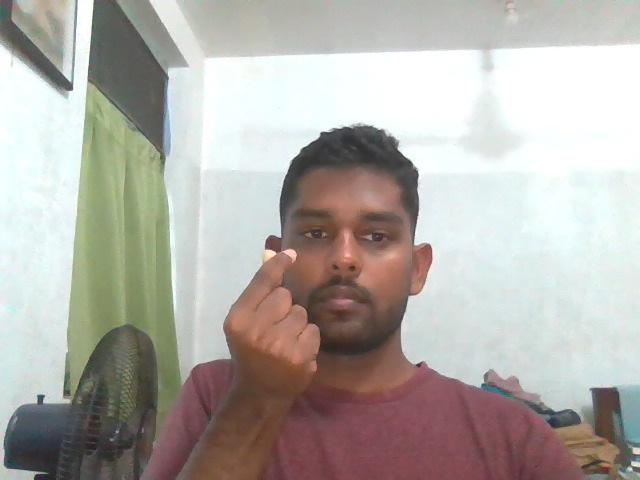iloveyou: (207, 246, 325, 385)
